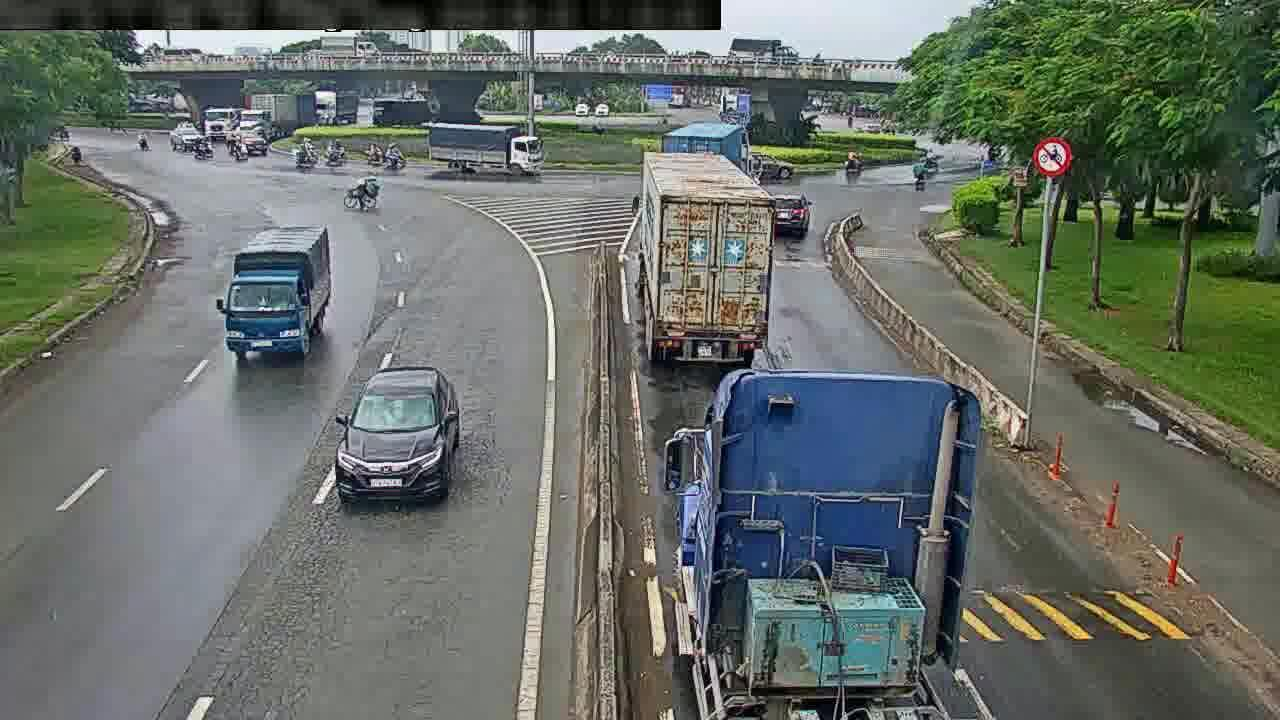8: (637, 147, 772, 365), (216, 221, 340, 376), (423, 122, 550, 185), (658, 118, 764, 161)
container: (323, 365, 466, 519), (765, 189, 813, 235)
motorbike: (339, 175, 379, 211), (913, 158, 930, 191), (844, 150, 870, 171)
